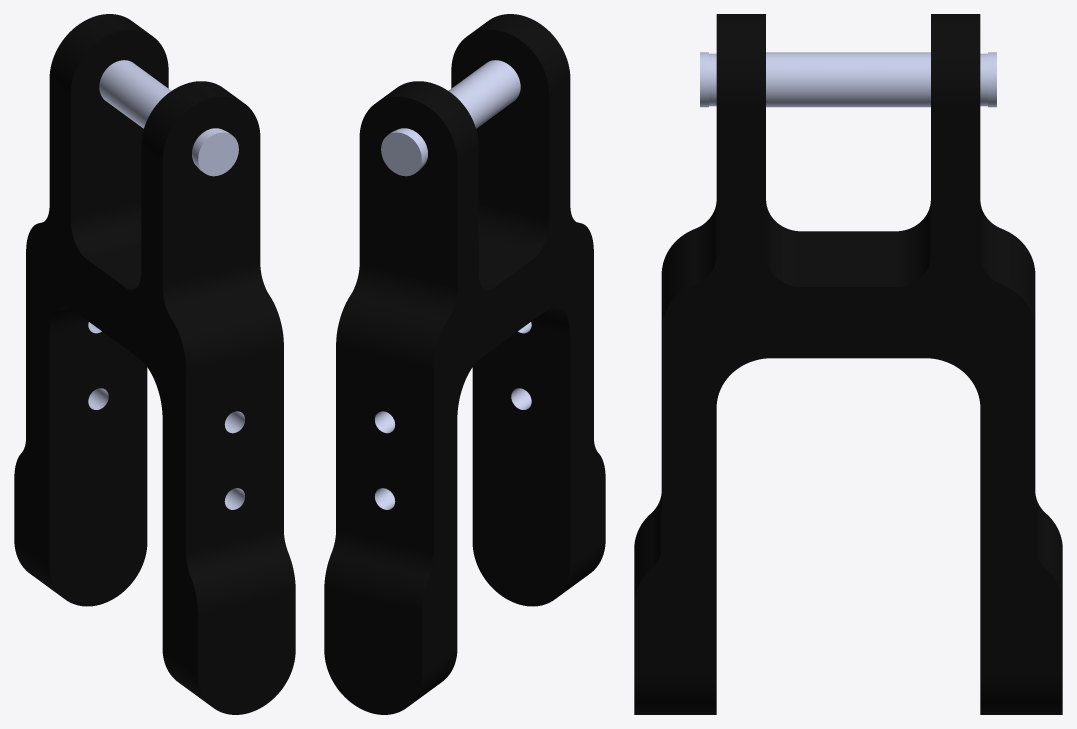
The model's file is inner_link.obj.
The picture shows the model from 3 angles, left to right: view 1: azimuth 30°, elevation 25°; view 2: azimuth 150°, elevation 25°; view 3: azimuth 270°, elevation 25°; orthographic projection. The views are drawn at different scales.
Visible parts, largest first — view 1: Solid1; view 2: Solid1; view 3: Solid1.
Part boxes in pixels (x1,y1,x2,y2): Solid1: [14, 14, 295, 714]; Solid1: [324, 14, 605, 714]; Solid1: [634, 14, 1062, 714].
Bounding box in the file's own units: 0.012 × 0.0691 × 0.039.
